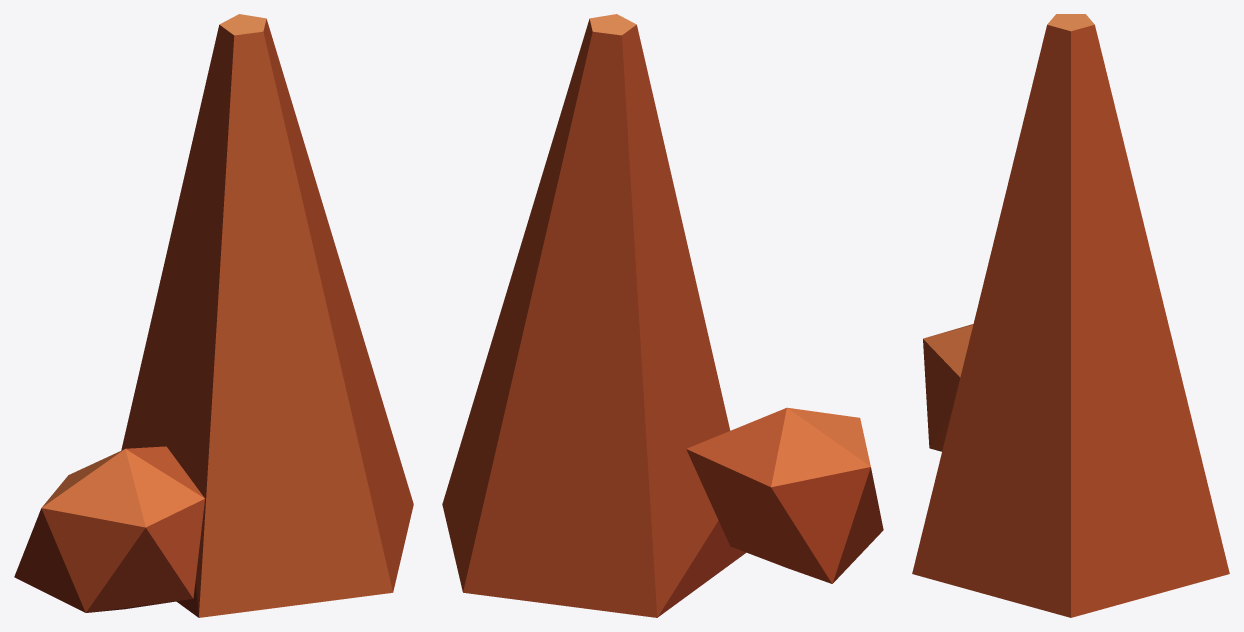
File: SM_ROCK_S_06.fbx
3 views of the same model, side by side, from view 1: azimuth 30°, elevation 25°; view 2: azimuth 150°, elevation 25°; view 3: azimuth 270°, elevation 25° (orthographic).
Visible parts, largest first — view 1: ROCK_S_06; view 2: ROCK_S_06; view 3: ROCK_S_06.
Boxes of the visible parts, bbox=[...] form: ROCK_S_06: bbox=[14, 14, 413, 617]; ROCK_S_06: bbox=[442, 14, 883, 617]; ROCK_S_06: bbox=[912, 14, 1229, 617].
Size of the model in its own units: 0.8233 by 0.5726 by 1.05.
